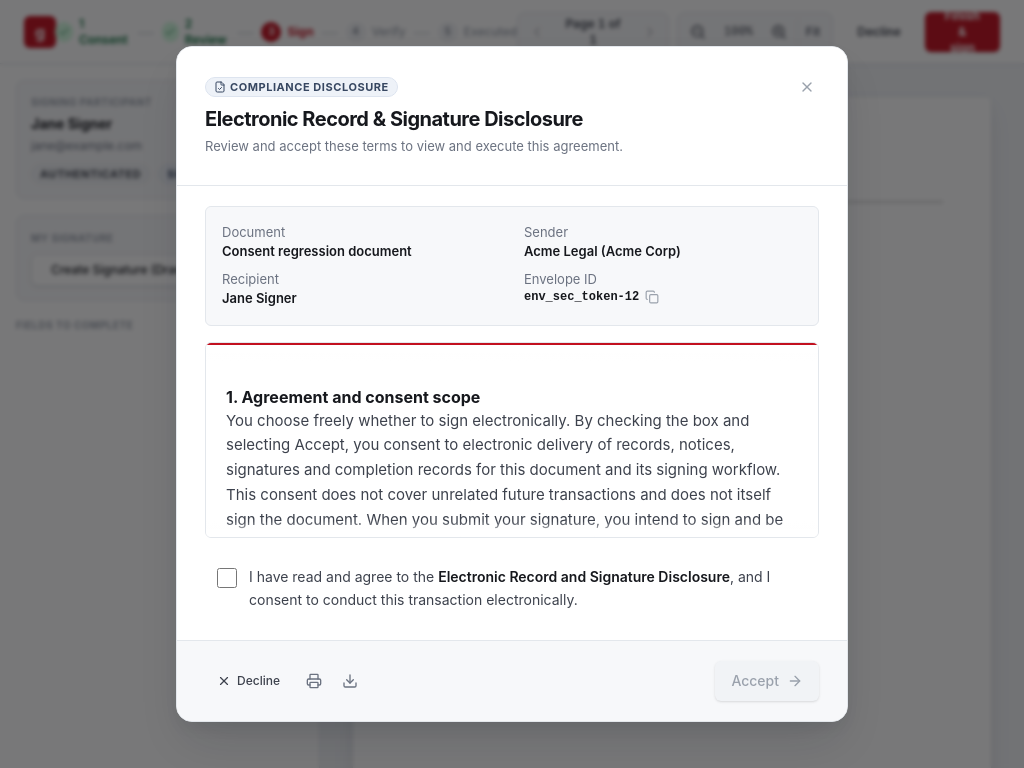
Test: SignDocumentPage Component Tests (FR-007 Workflow Engine) › requires server-confirmed consent and records a confirmed decline without a second dialog
What coordinates should you click on to do the following:
click the checkbox with test id "ersd-checkbox"
I would click on:
 (227, 578)
Its box is x1=217 y1=568 x2=237 y2=588.
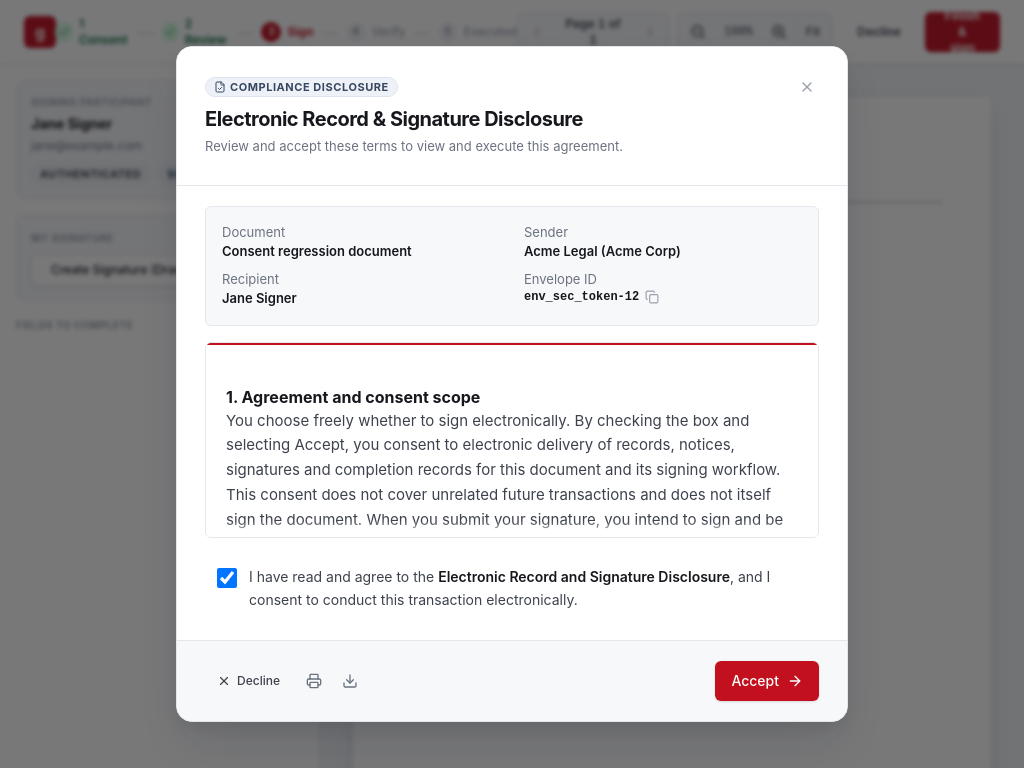
Expected: the button with test id "ersd-accept-button" is enabled
What coordinates should you click on to do the following:
click the button with test id "ersd-accept-button"
I would click on:
 (767, 681)
Its box is x1=715 y1=661 x2=819 y2=701.
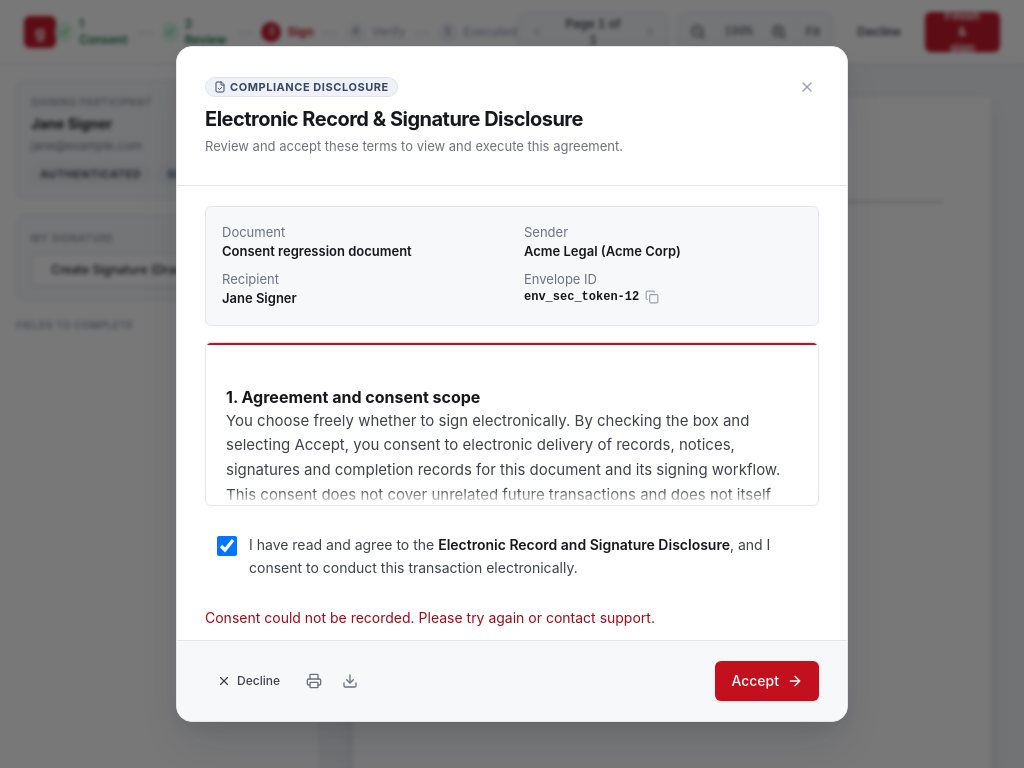
Expected: the message shows "Consent could not be recorded", x1=205 y1=609 x2=655 y2=626
What coordinates should you click on to do the following:
click the button with test id "ersd-decline-button"
I would click on:
 (248, 681)
Its box is x1=205 y1=665 x2=292 y2=697.
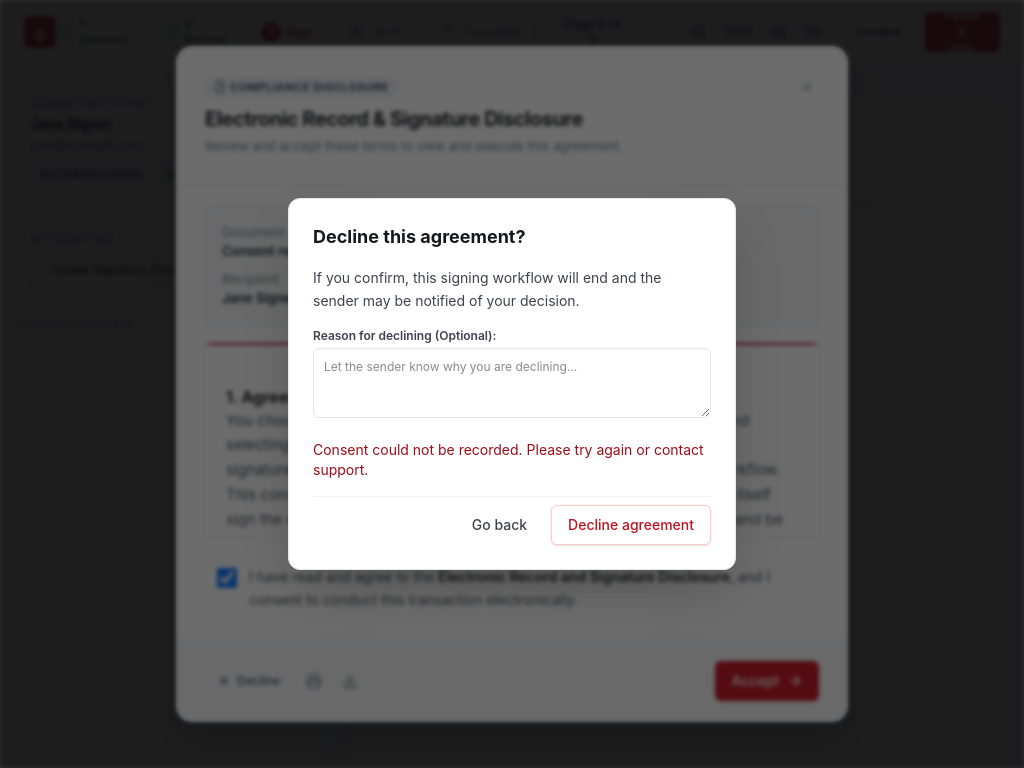
What coordinates should you click on to do the following:
click the button "Decline agreement"
I would click on:
 (631, 525)
Its box is x1=551 y1=505 x2=711 y2=545.
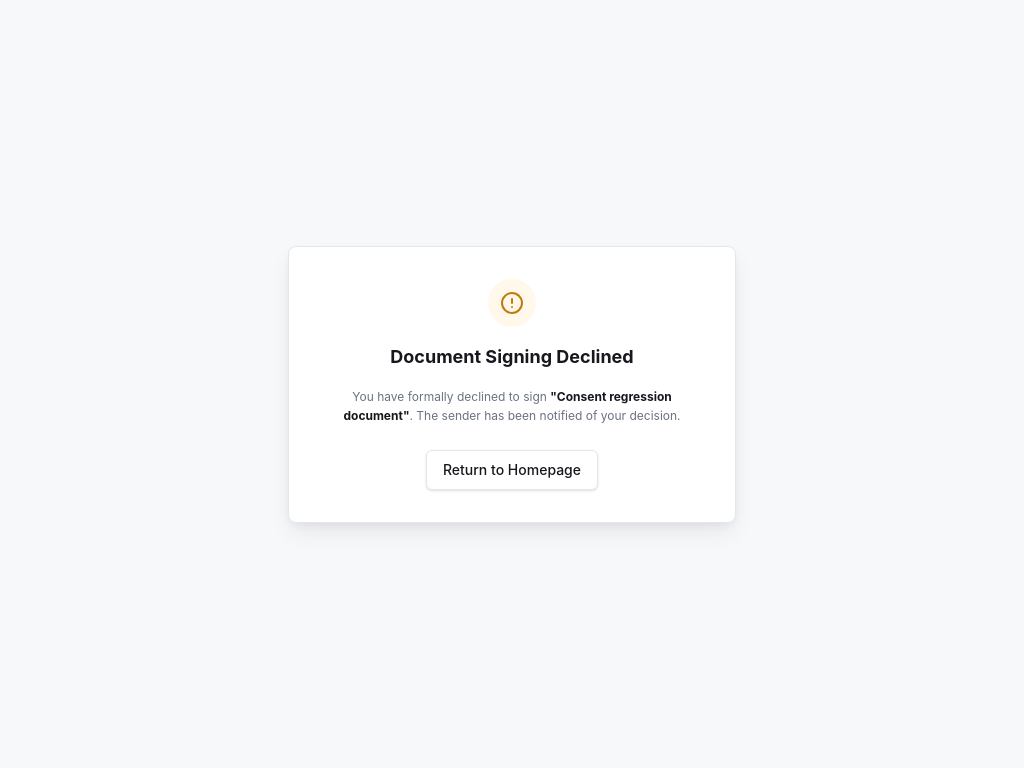
Expected: the dialog with test id "ersd-modal-overlay" is gone
